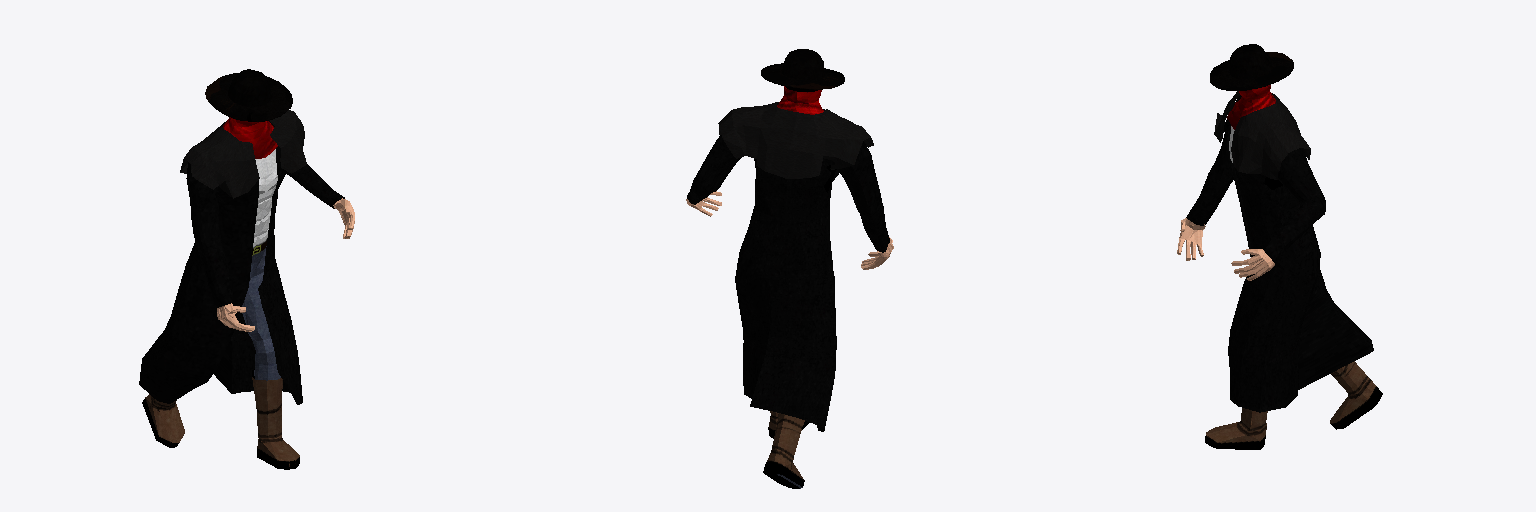
3 renders of one model, left to right at view 1: azimuth 30°, elevation 25°; view 2: azimuth 150°, elevation 25°; view 3: azimuth 270°, elevation 25°, orthographic.
Parts seen in each view (by area): view 1: Undertaker_Attack:Undertaker_4:Undertaker_4:Undertaker; view 2: Undertaker_Attack:Undertaker_4:Undertaker_4:Undertaker; view 3: Undertaker_Attack:Undertaker_4:Undertaker_4:Undertaker.
Boxes of the visible parts, box(x1,y1,x2,y2) form: Undertaker_Attack:Undertaker_4:Undertaker_4:Undertaker: box(139, 69, 354, 469); Undertaker_Attack:Undertaker_4:Undertaker_4:Undertaker: box(686, 49, 893, 488); Undertaker_Attack:Undertaker_4:Undertaker_4:Undertaker: box(1177, 44, 1382, 449).
Size of the model in its own units: 1.32 by 2.88 by 1.35.
1 materials, 1 textured.